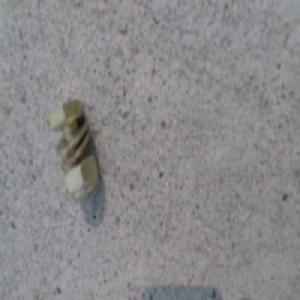BoltNutSet: (53, 99, 102, 200)
